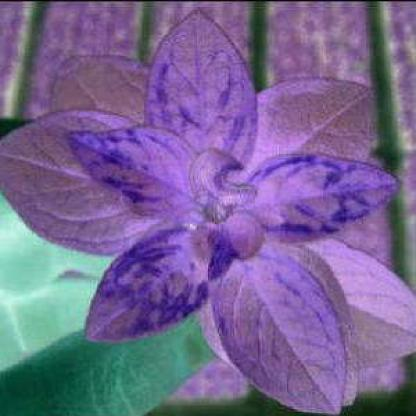Tomato leaf yellow virus: (148, 11, 264, 202), (206, 250, 346, 408), (65, 126, 211, 228), (242, 152, 404, 242)
